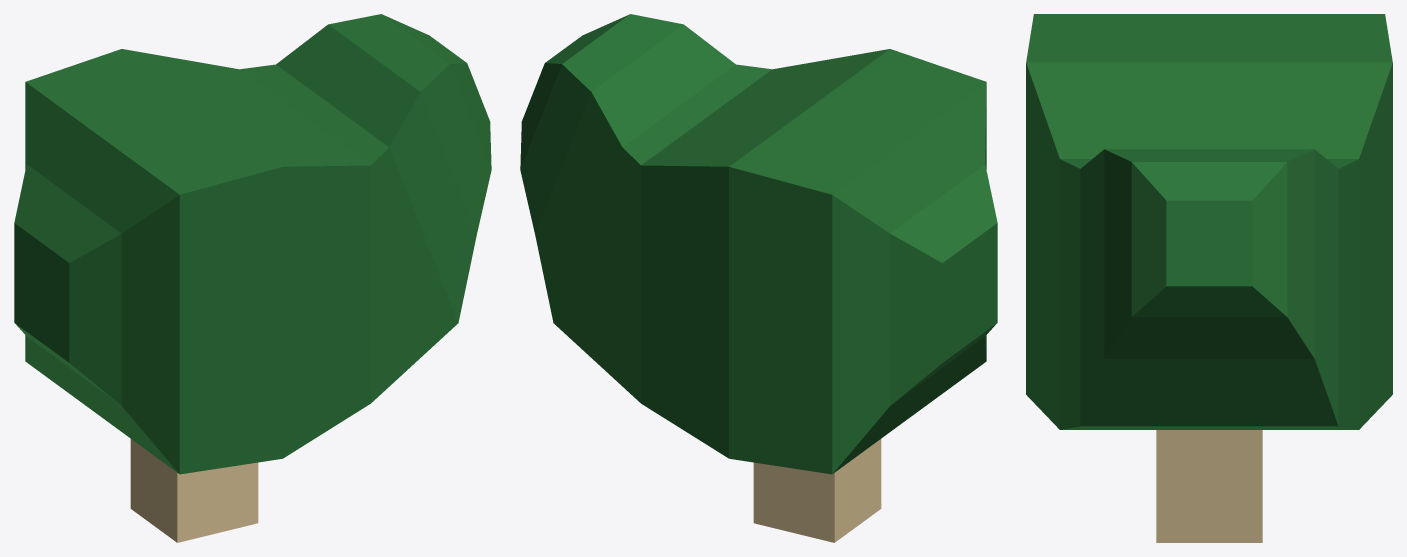
The model's file is bush.glb.
3 views of the same model, side by side, from view 1: azimuth 30°, elevation 25°; view 2: azimuth 150°, elevation 25°; view 3: azimuth 270°, elevation 25° (orthographic). The views are drawn at different scales.
Visible parts, largest first — view 1: Cube.001, Cube; view 2: Cube.001, Cube; view 3: Cube.001, Cube.
Boxes of the visible parts, x1,y1,x2,y2 form: Cube.001: (14,14,491,474); Cube: (130,439,258,542); Cube.001: (520,14,997,474); Cube: (753,439,881,542); Cube.001: (1026,14,1392,429); Cube: (1156,430,1262,542).
Bounding box in the file's own units: 3.38 × 3.18 × 2.19.
